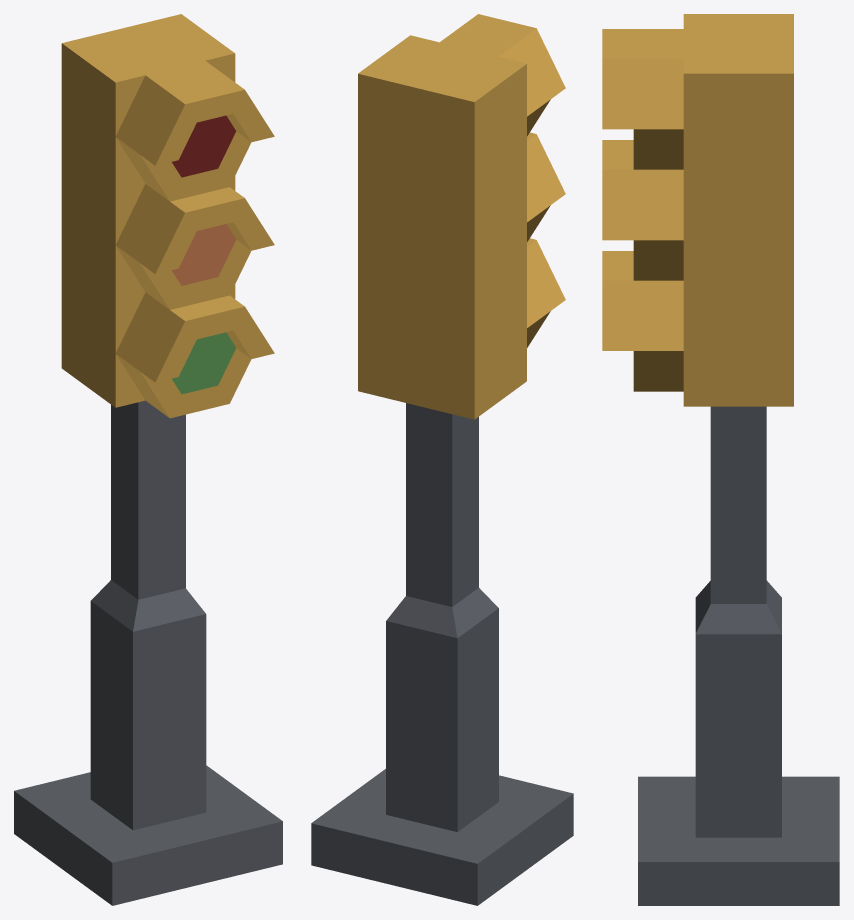
File: SM_Prop_TrafficLight_01.fbx
3 views of the same model, side by side, from view 1: azimuth 30°, elevation 25°; view 2: azimuth 150°, elevation 25°; view 3: azimuth 270°, elevation 25° (orthographic). The views are drawn at different scales.
Visible parts, largest first — view 1: SM_Prop_TrafficLight_01; view 2: SM_Prop_TrafficLight_01; view 3: SM_Prop_TrafficLight_01.
Part boxes in pixels (<box>): SM_Prop_TrafficLight_01: <box>14,14,282,905</box>; SM_Prop_TrafficLight_01: <box>311,14,573,905</box>; SM_Prop_TrafficLight_01: <box>602,14,839,905</box>.
Size of the model in its own units: 30.85 by 138 by 36.29.
